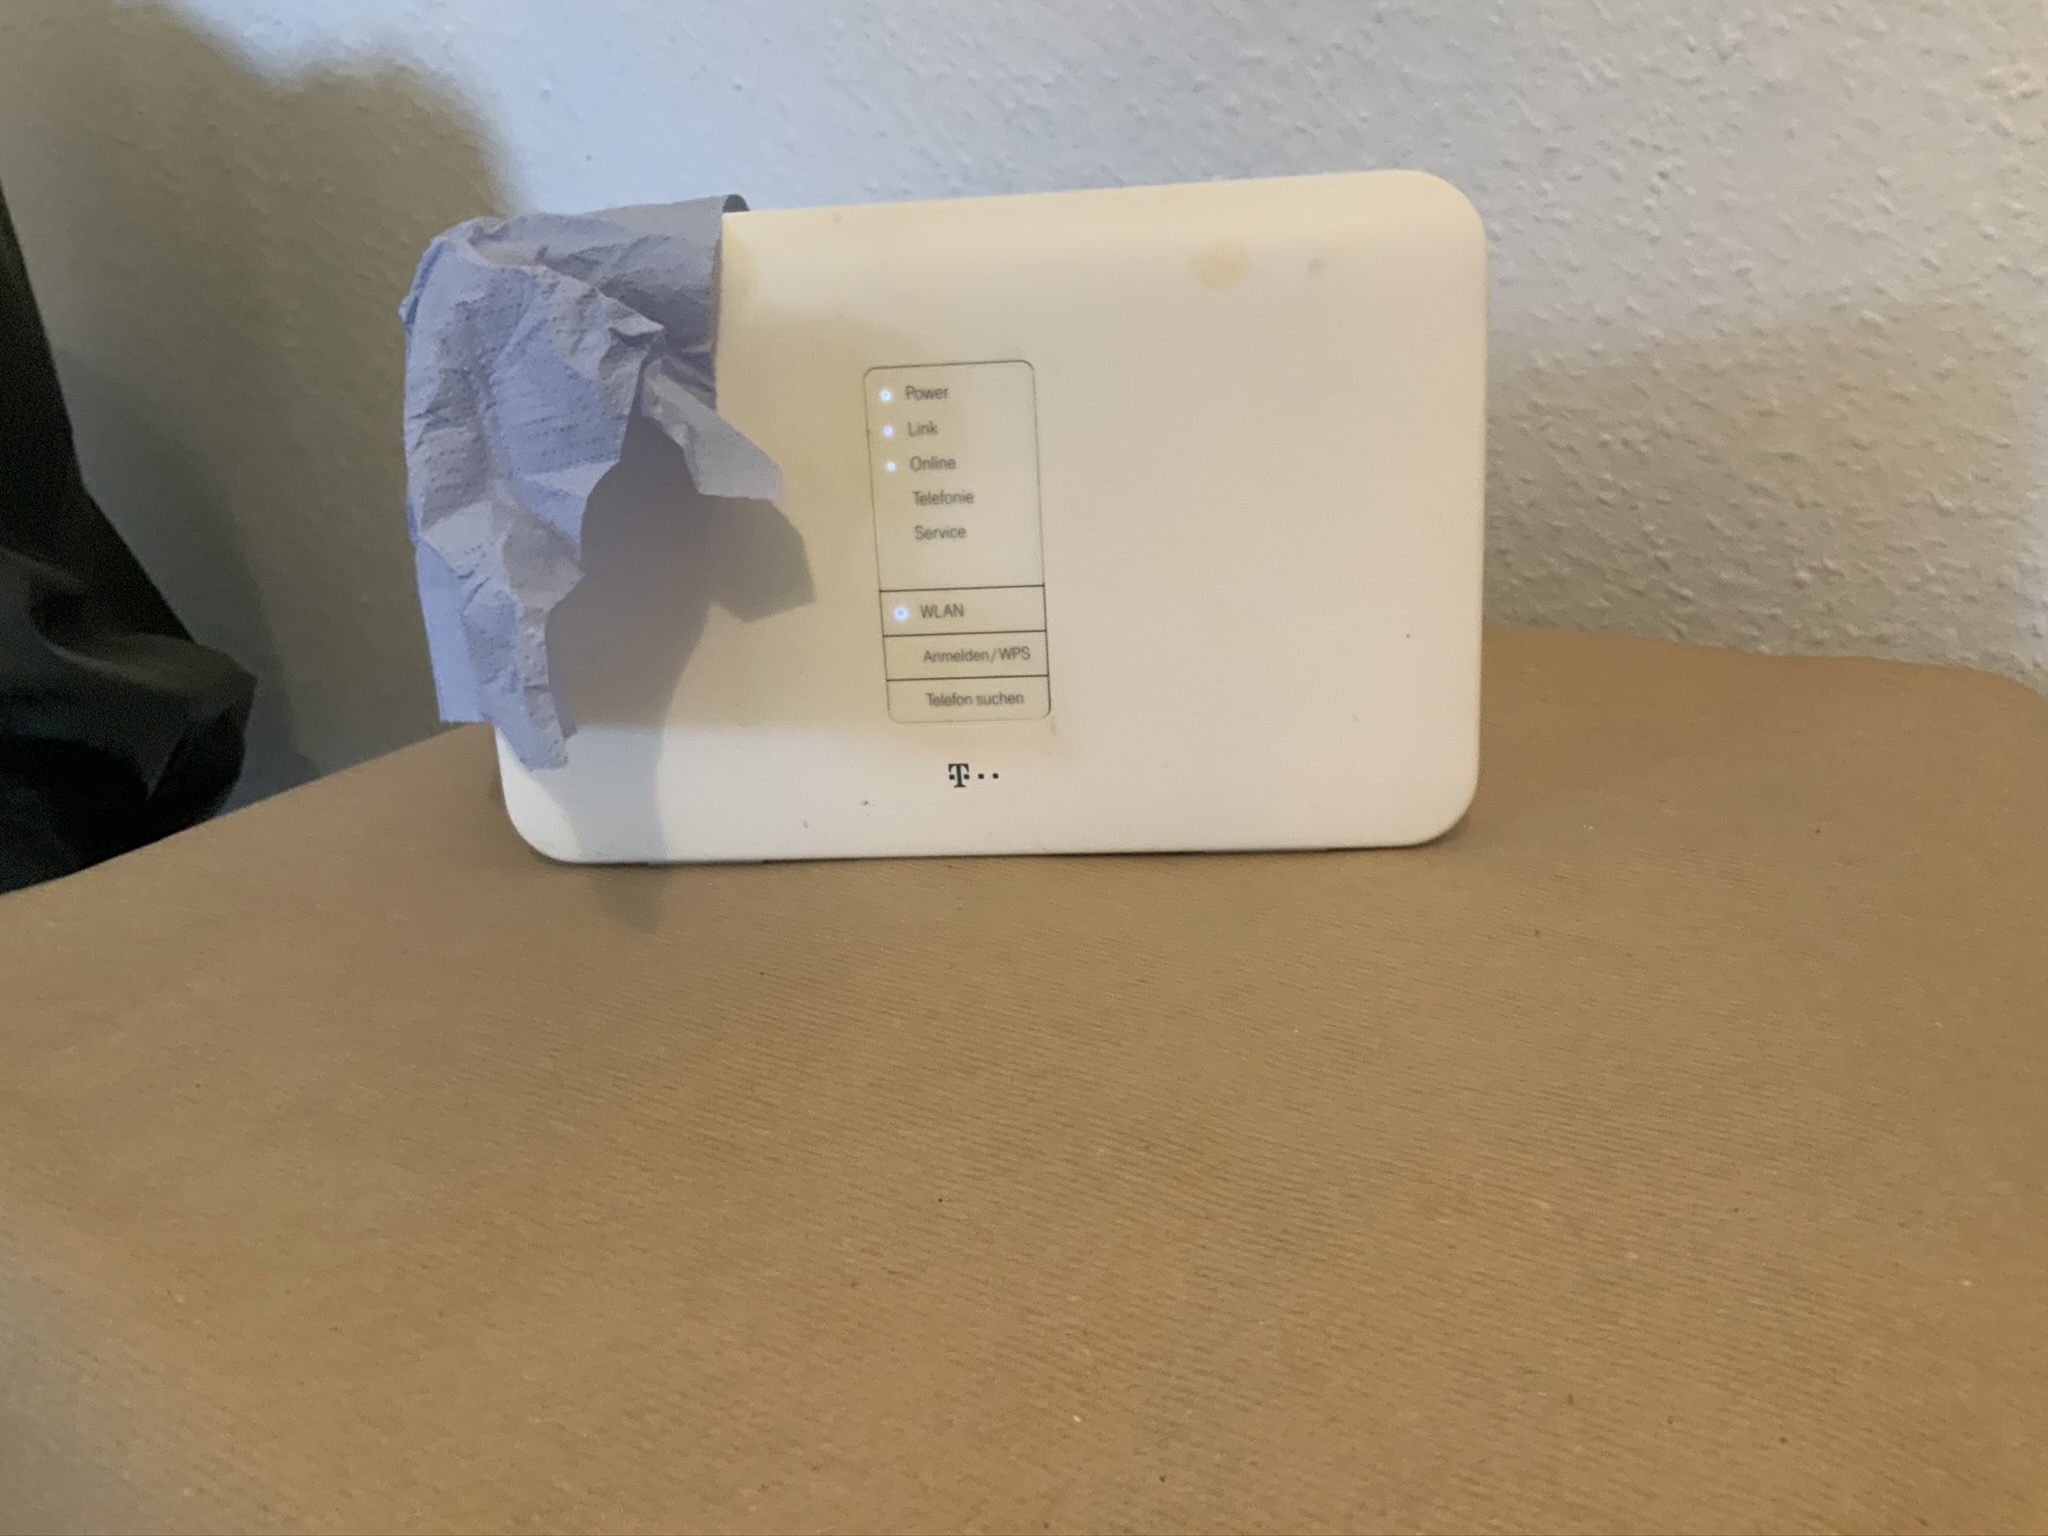router: (406, 160, 1513, 870)
